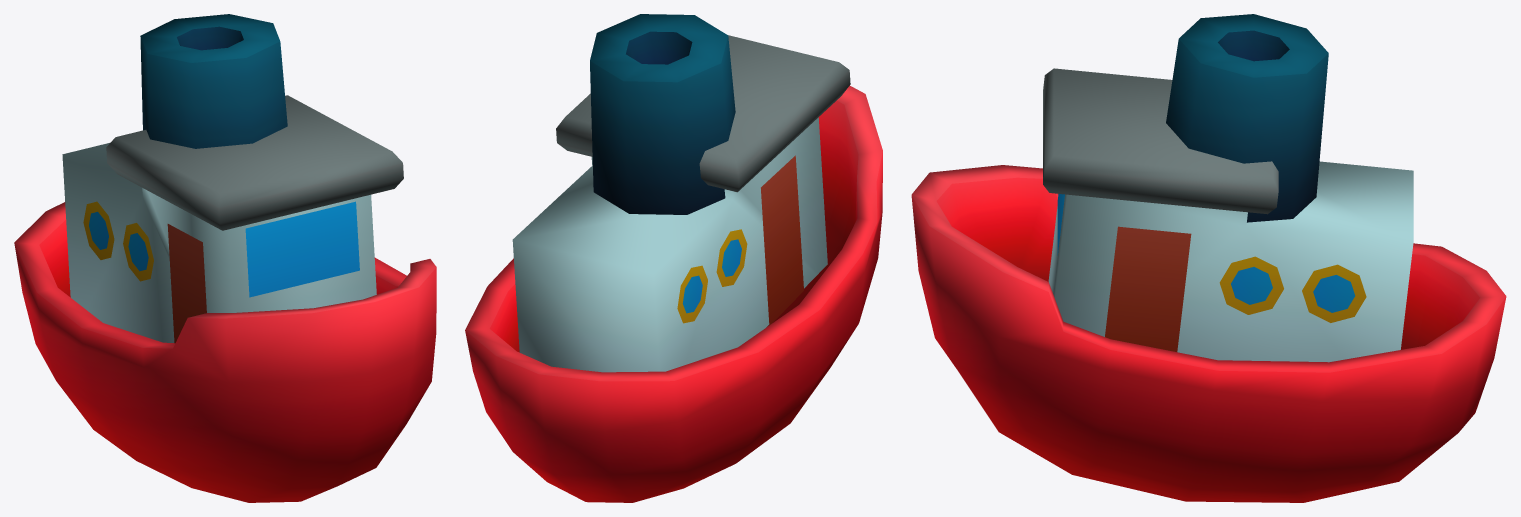
The model's file is ship.fbx.
3 views of the same model, side by side, from view 1: azimuth 30°, elevation 25°; view 2: azimuth 150°, elevation 25°; view 3: azimuth 270°, elevation 25° (orthographic). The views are drawn at different scales.
Visible parts, largest first — view 1: ship; view 2: ship; view 3: ship.
Boxes of the visible parts, x1,y1,x2,y2 form: ship: (14,14,436,502); ship: (465,14,882,502); ship: (911,14,1506,502).
Bounding box in the file's own units: 9.89 × 13.95 × 16.73.
